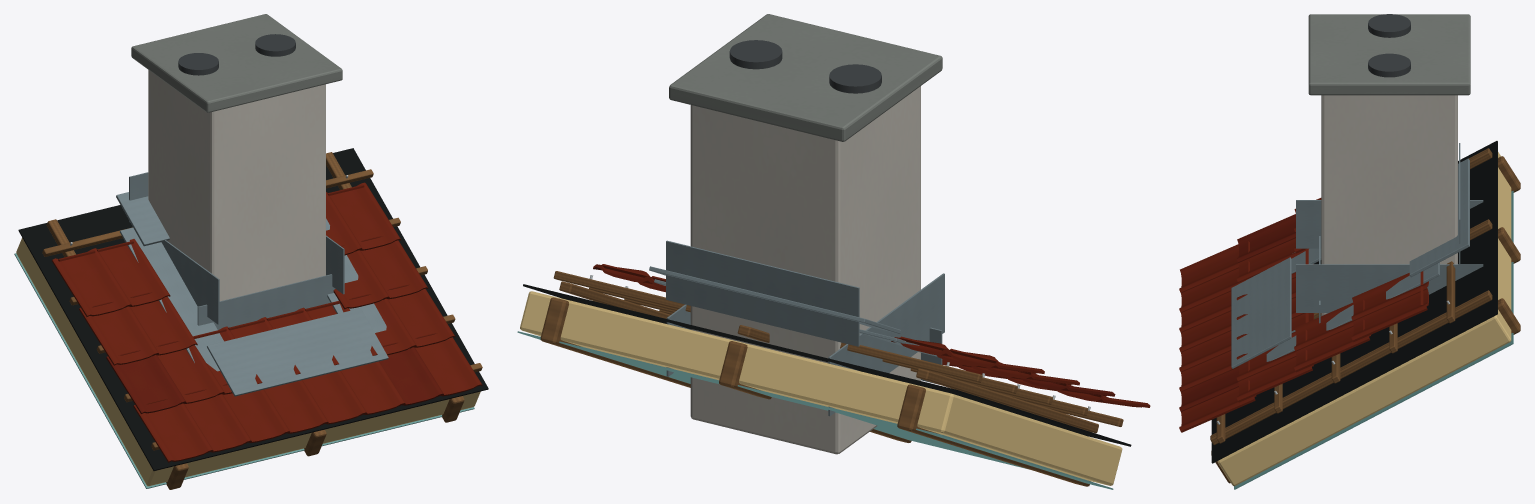
The model's file is modell.glb.
3 renders of one model, left to right at view 1: azimuth 30°, elevation 25°; view 2: azimuth 150°, elevation 25°; view 3: azimuth 270°, elevation 25°, orthographic. The views are drawn at different scales.
Visible parts, largest first — view 1: s08-deckziegel_deckung, s08-schornstein_, s08-vorderteil_deckung, s08-schornstein_.001, s08-zusatzebene_zusatzebene, s08-daemmung_daemmung, s08-seitenteil_deckung, s08-deckziegel_deckung.001, s08-lattung_lattung, s08-rueckenteil_deckung, s08-schornstein_.002, s08-luftdichtheit_luftdichtheit (+1 smaller); view 2: s08-schornstein_, s08-daemmung_daemmung, s08-schornstein_.001, s08-rueckenteil_deckung, s08-lattung_lattung, s08-seitenteil_deckung, s08-sparren_tragwerk, s08-deckziegel_deckung, s08-luftdichtheit_luftdichtheit, s08-zusatzebene_zusatzebene, s08-schornstein_.002; view 3: s08-schornstein_, s08-deckziegel_deckung, s08-zusatzebene_zusatzebene, s08-schornstein_.001, s08-daemmung_daemmung, s08-seitenteil_deckung, s08-lattung_lattung, s08-vorderteil_deckung, s08-deckziegel_deckung.001, s08-rueckenteil_deckung, s08-schornstein_.002, s08-luftdichtheit_luftdichtheit (+1 smaller).
Part boxes in pixels (bbox=[...]): s08-deckziegel_deckung: bbox=[52, 182, 482, 462]; s08-schornstein_: bbox=[148, 70, 325, 301]; s08-vorderteil_deckung: bbox=[197, 274, 388, 396]; s08-schornstein_.001: bbox=[131, 14, 342, 112]; s08-zusatzebene_zusatzebene: bbox=[18, 148, 488, 470]; s08-daemmung_daemmung: bbox=[16, 238, 480, 486]; s08-seitenteil_deckung: bbox=[120, 218, 386, 371]; s08-deckziegel_deckung.001: bbox=[106, 347, 443, 413]; s08-lattung_lattung: bbox=[42, 152, 482, 450]; s08-rueckenteil_deckung: bbox=[116, 172, 169, 246]; s08-schornstein_.002: bbox=[178, 34, 295, 75]; s08-luftdichtheit_luftdichtheit: bbox=[14, 253, 474, 488]; s08-schornstein_: bbox=[690, 86, 920, 454]; s08-daemmung_daemmung: bbox=[520, 291, 1122, 485]; s08-schornstein_.001: bbox=[669, 14, 942, 141]; s08-rueckenteil_deckung: bbox=[649, 240, 900, 346]; s08-lattung_lattung: bbox=[553, 271, 1123, 433]; s08-seitenteil_deckung: bbox=[654, 273, 944, 416]; s08-sparren_tragwerk: bbox=[540, 297, 1089, 486]; s08-deckziegel_deckung: bbox=[593, 264, 1150, 407]; s08-luftdichtheit_luftdichtheit: bbox=[517, 331, 1113, 489]; s08-zusatzebene_zusatzebene: bbox=[523, 284, 1131, 446]; s08-schornstein_.002: bbox=[729, 40, 881, 93]; s08-schornstein_: bbox=[1321, 95, 1457, 315]; s08-deckziegel_deckung: bbox=[1179, 198, 1428, 432]; s08-zusatzebene_zusatzebene: bbox=[1211, 141, 1497, 463]; s08-schornstein_.001: bbox=[1308, 14, 1470, 95]; s08-daemmung_daemmung: bbox=[1217, 152, 1511, 486]; s08-seitenteil_deckung: bbox=[1266, 200, 1483, 361]; s08-lattung_lattung: bbox=[1210, 148, 1492, 445]; s08-vorderteil_deckung: bbox=[1231, 236, 1320, 368]; s08-deckziegel_deckung.001: bbox=[1179, 214, 1295, 411]; s08-rueckenteil_deckung: bbox=[1409, 143, 1469, 276]; s08-schornstein_.002: bbox=[1368, 14, 1410, 77]; s08-luftdichtheit_luftdichtheit: bbox=[1234, 191, 1513, 489].
Bounding box in the file's own units: 2.09 × 2.08 × 1.75.
Materials: 11 (6 with a texture image).
